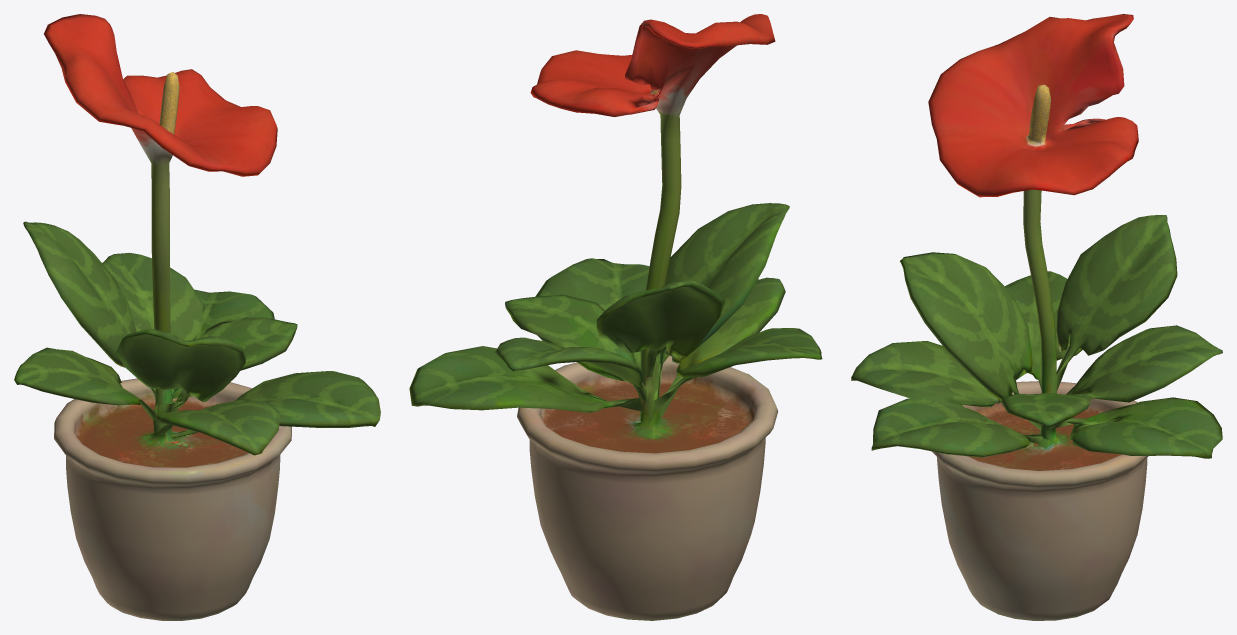
File: potAnthurium.fbx
3 renders of one model, left to right at view 1: azimuth 30°, elevation 25°; view 2: azimuth 150°, elevation 25°; view 3: azimuth 270°, elevation 25°, orthographic. The views are drawn at different scales.
Visible parts, largest first — view 1: potAnthurium; view 2: potAnthurium; view 3: potAnthurium.
Boxes of the visible parts, box(x1,y1,x2,y2) form: potAnthurium: box(14, 14, 380, 620); potAnthurium: box(409, 14, 822, 620); potAnthurium: box(851, 14, 1222, 620).
Size of the model in its own units: 37.85 by 66.32 by 40.82.
